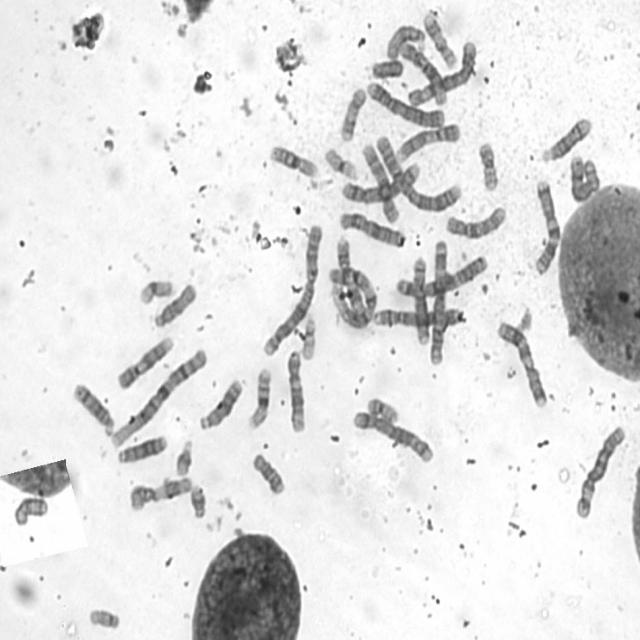A1: (108, 342, 209, 450), (326, 260, 380, 329)
A2: (258, 218, 324, 358), (372, 130, 463, 213)
A3: (392, 250, 489, 298), (426, 234, 450, 366)
B4: (364, 75, 448, 128), (368, 301, 468, 330)
B5: (351, 405, 436, 465), (338, 156, 423, 204)
C10: (358, 140, 402, 226), (442, 199, 510, 241)
C11: (126, 470, 195, 512), (334, 237, 367, 324)
C12: (397, 37, 449, 107), (284, 345, 308, 434)
C6: (573, 420, 628, 520), (404, 35, 479, 108)
C7: (493, 315, 550, 409), (530, 175, 562, 277)
C8: (409, 251, 432, 347), (567, 149, 602, 204)
C9: (114, 329, 176, 392), (392, 117, 463, 163)
D13: (196, 373, 245, 432), (115, 429, 170, 465)
D14: (538, 112, 594, 164), (69, 378, 116, 438)
D15: (150, 277, 199, 329), (382, 18, 428, 60)
E16: (266, 139, 319, 179), (244, 362, 274, 432)
E17: (419, 6, 458, 70), (337, 82, 368, 142)
E18: (249, 448, 287, 497), (11, 491, 50, 527)
F19: (321, 143, 360, 181), (136, 274, 176, 306)
F20: (475, 136, 501, 192), (364, 391, 401, 425)
G21: (172, 433, 195, 477), (187, 480, 208, 520)
G22: (85, 602, 122, 632), (298, 310, 318, 361)
X: (336, 206, 408, 248)
Y: (366, 54, 406, 79)
